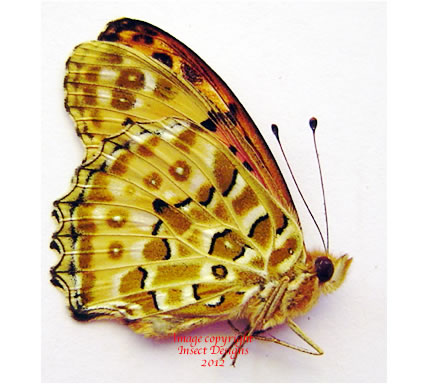Argyreus hyperbius: (43, 9, 355, 364)
butterfly: (45, 11, 357, 366)
